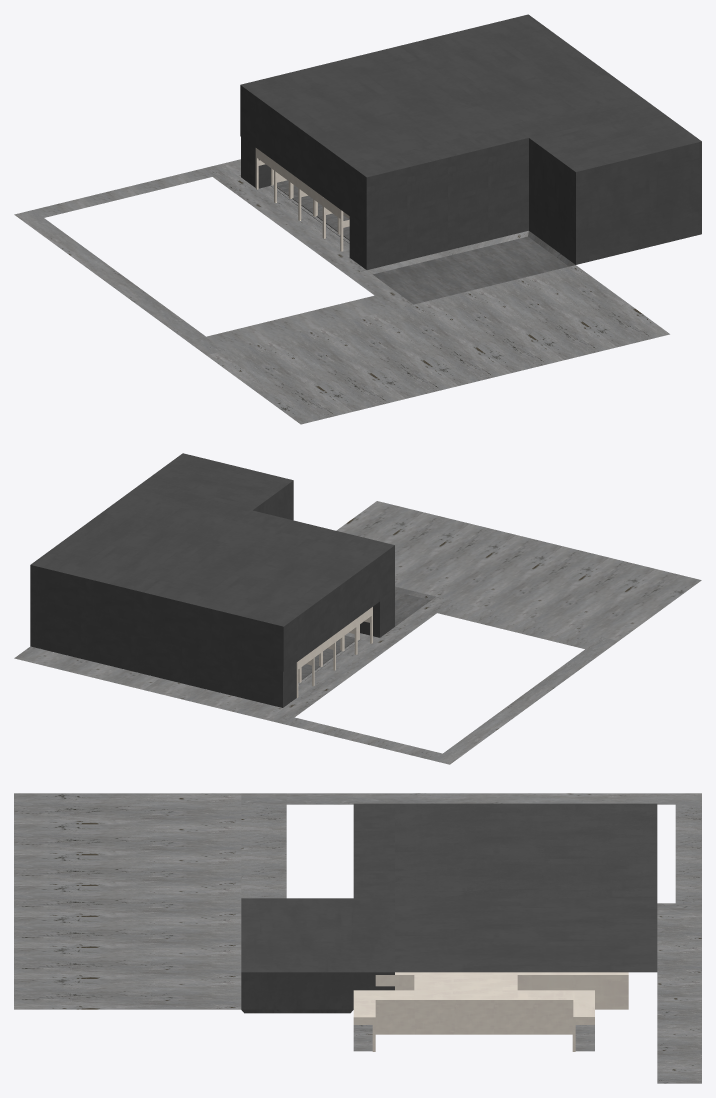
File: canteen level.fbx
The picture shows the model from 3 angles, top to bottom: view 1: azimuth 30°, elevation 25°; view 2: azimuth 150°, elevation 25°; view 3: azimuth 270°, elevation 25°; orthographic projection. The views are drawn at different scales.
Visible parts, largest first — view 1: pPlane62, pPlane76, pPlane75, pPlane74, pPlane27, pPlane73, pPlane61, pPlane46, pCube766, pPlane63, pPlane28, pPlane26 (+2 smaller); view 2: pPlane62, pPlane76, pCube766, pPlane75, pCube765, pPlane28, pPlane61, pPlane27, pPlane73, pPlane26, pPlane63, pPlane46 (+1 smaller); view 3: pPlane62, pPlane76, pPlane75, pPlane61, pPlane28, pPlane25, pPlane44, pPlane63, pPlane73, pPlane16, pPlane27, pPlane23 (+2 smaller).
Part boxes in pixels (x1,y1,x2,y2): pPlane62: (206, 265, 669, 424); pPlane76: (402, 14, 701, 171); pPlane75: (240, 45, 511, 164); pPlane74: (576, 141, 701, 264); pPlane27: (349, 145, 447, 269); pPlane73: (431, 125, 528, 250); pPlane61: (14, 169, 393, 354); pPlane46: (367, 231, 575, 304); pCube766: (240, 85, 349, 215); pPlane63: (529, 138, 575, 264); pPlane28: (202, 159, 413, 309); pPlane26: (252, 186, 349, 257); pPlane62: (336, 501, 701, 640); pPlane76: (30, 453, 293, 591); pCube766: (30, 556, 379, 671); pPlane75: (141, 521, 379, 626); pCube765: (30, 610, 296, 707); pPlane28: (14, 596, 453, 724); pPlane61: (285, 601, 618, 764); pPlane27: (309, 528, 394, 637); pPlane73: (237, 510, 323, 538); pPlane26: (294, 632, 379, 700); pPlane63: (253, 480, 293, 520); pPlane46: (395, 586, 435, 626); pPlane62: (14, 793, 241, 1009); pPlane76: (241, 898, 657, 972); pPlane75: (395, 803, 657, 898); pPlane61: (241, 793, 701, 903); pPlane28: (657, 903, 701, 1083); pPlane25: (375, 1002, 573, 1034); pPlane44: (353, 972, 628, 1017); pPlane63: (241, 972, 353, 1009); pPlane73: (353, 851, 394, 990); pPlane16: (517, 975, 628, 1009); pPlane27: (353, 803, 394, 850); pPlane23: (353, 1025, 594, 1051).
Bounding box in the file's own units: 17656 × 3303 × 17691.
